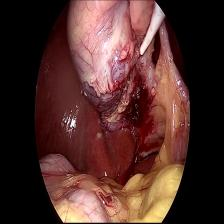Hook: (130, 1, 170, 61)
